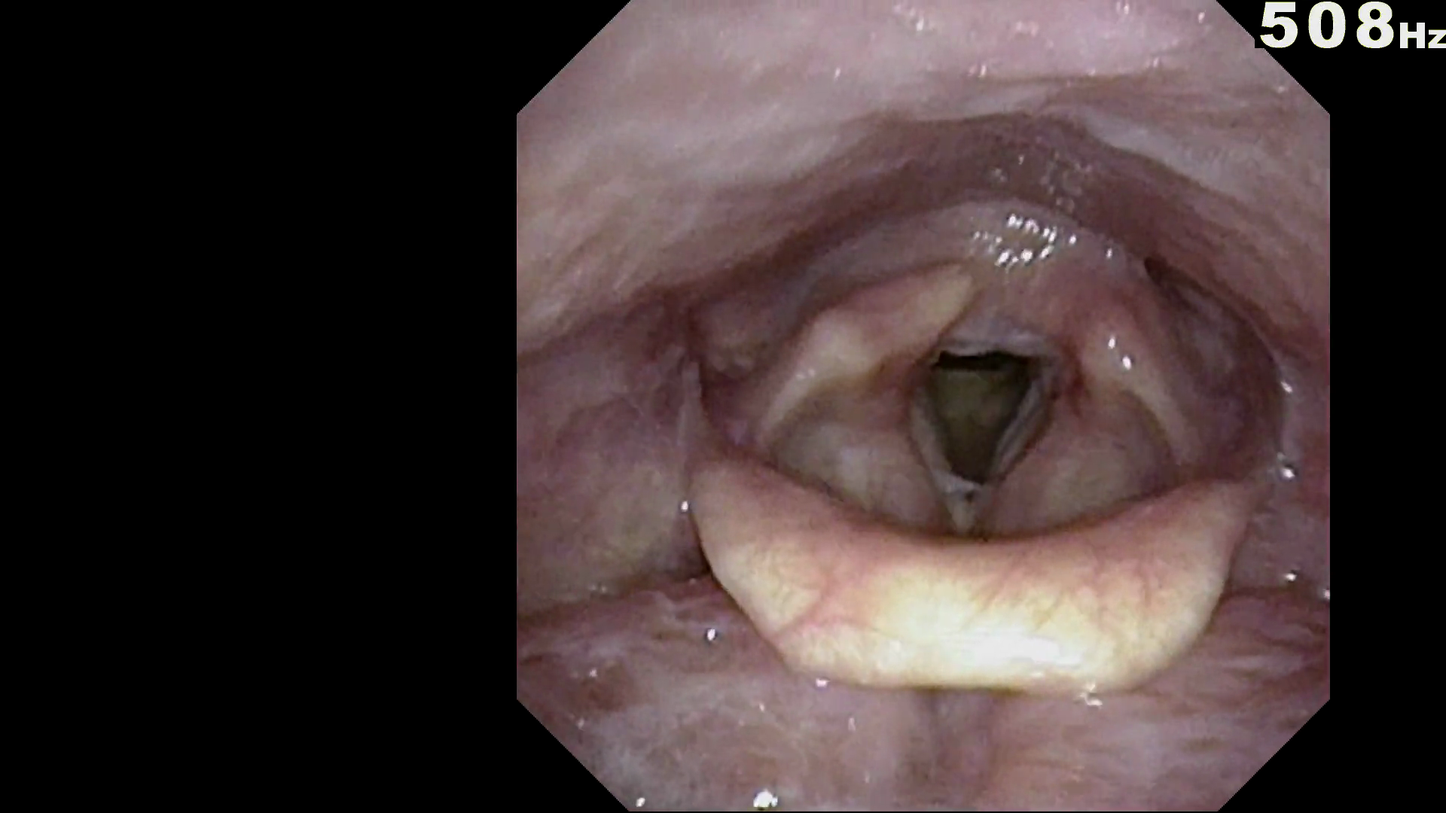epiglottis: (669, 402, 1275, 720)
trachea: (864, 315, 1083, 536)
